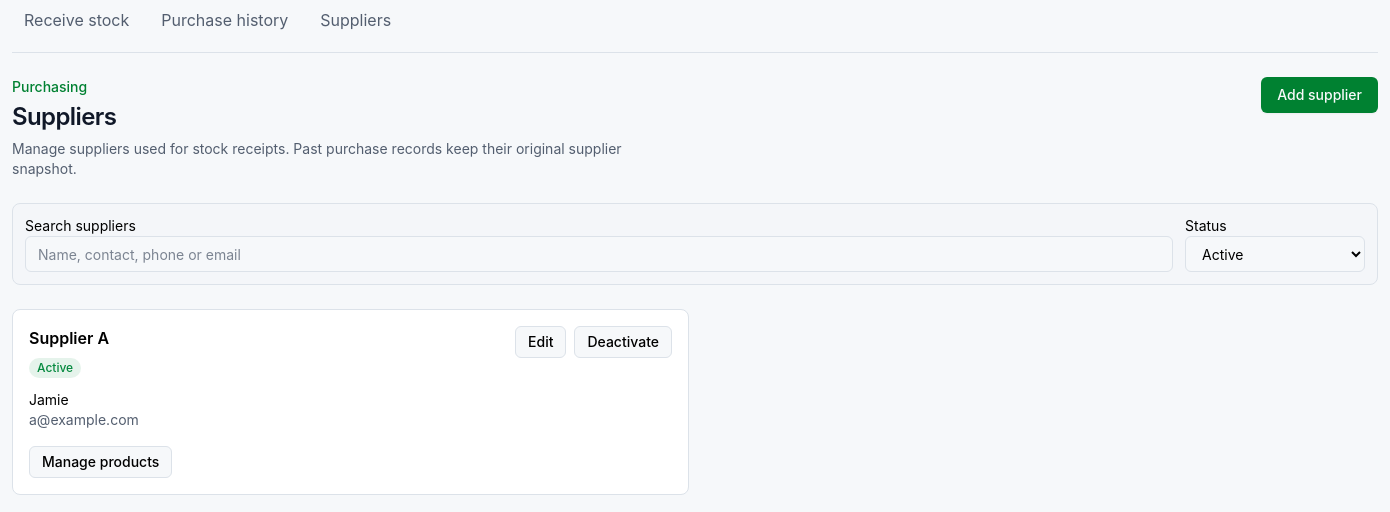
Test case: purchasing suppliers page › filters active/inactive and searches contact details
Expected: the heading "Supplier A" is shown, [29,326,109,350]
Expected: the text "Supplier B" is not shown
Select "All suppliers" in the dropdown labelled "Status" at (1275, 254), box [1185,236,1365,272]
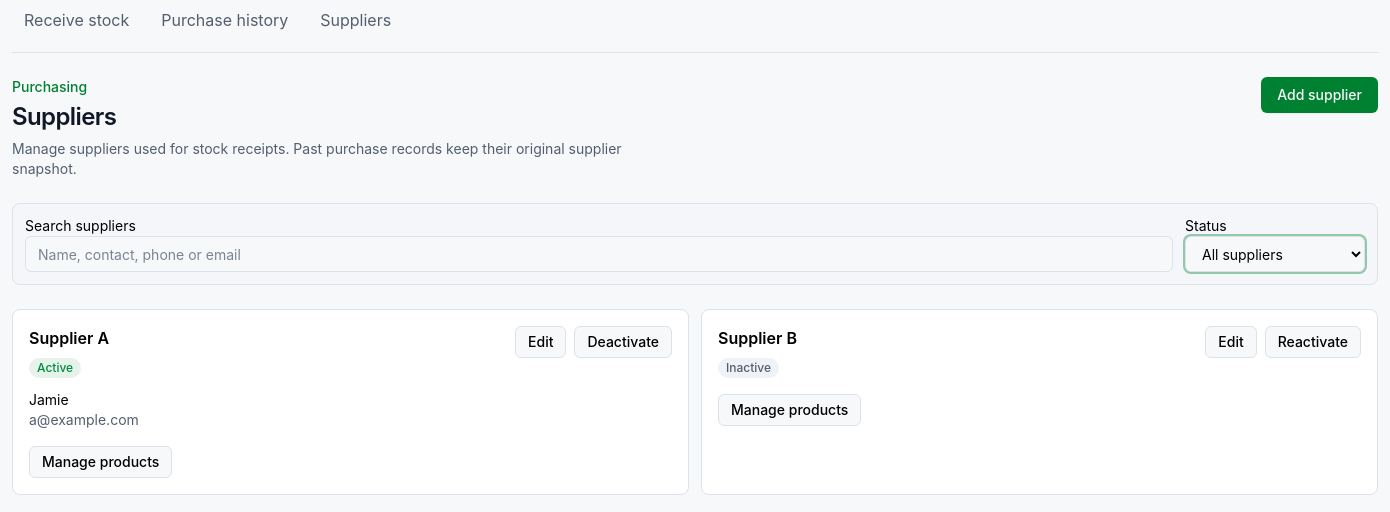
Type "Jamie" into the search field at (599, 254), box [25,236,1173,272]
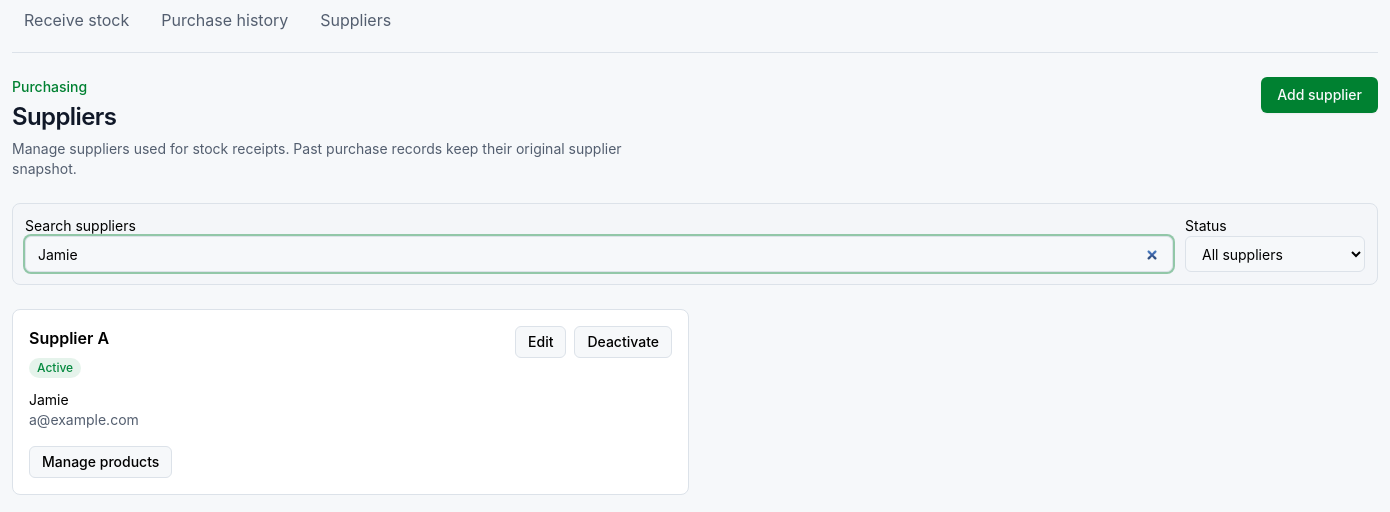
Expected: the heading "Supplier A" is shown, [29,326,109,350]
Expected: the heading "Supplier B" is gone
